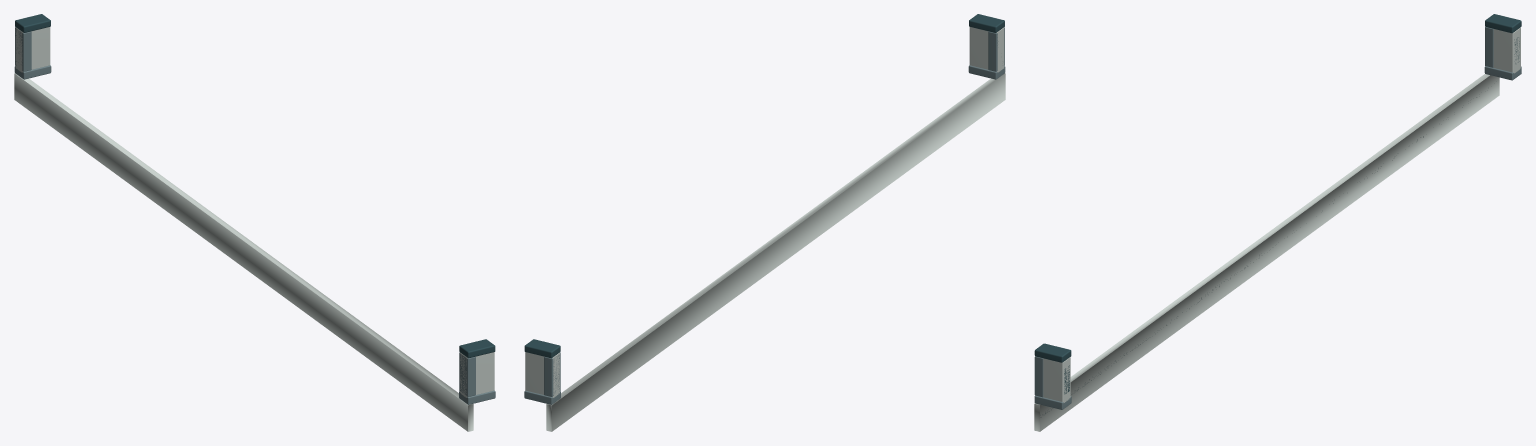
Rendered from city_harbour_bridge_03.glb.
The picture shows the model from 3 angles, left to right: view 1: azimuth 30°, elevation 25°; view 2: azimuth 150°, elevation 25°; view 3: azimuth 330°, elevation 25°; orthographic projection.
Visible parts, largest first — view 1: CityHarbourBridge03_Mesh; view 2: CityHarbourBridge03_Mesh; view 3: CityHarbourBridge03_Mesh.
Boxes of the visible parts, x1=… form: CityHarbourBridge03_Mesh: x1=14, y1=14, x2=495, y2=431; CityHarbourBridge03_Mesh: x1=524, y1=14, x2=1005, y2=431; CityHarbourBridge03_Mesh: x1=1034, y1=14, x2=1521, y2=431.
Size of the model in its own units: 0.6 by 1.65 by 17.
